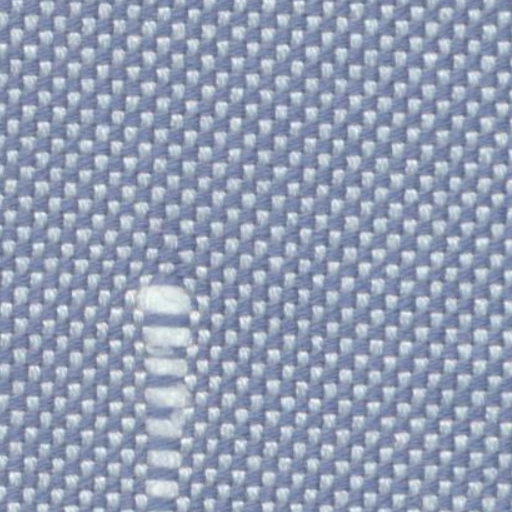DaiSha: (116, 271, 216, 502)
